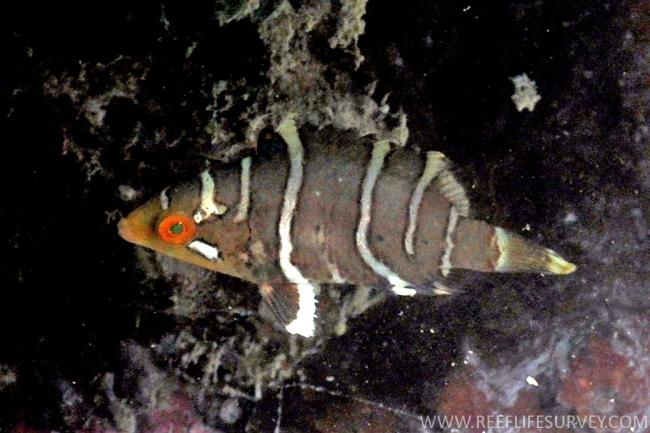fish: (117, 120, 579, 339)
